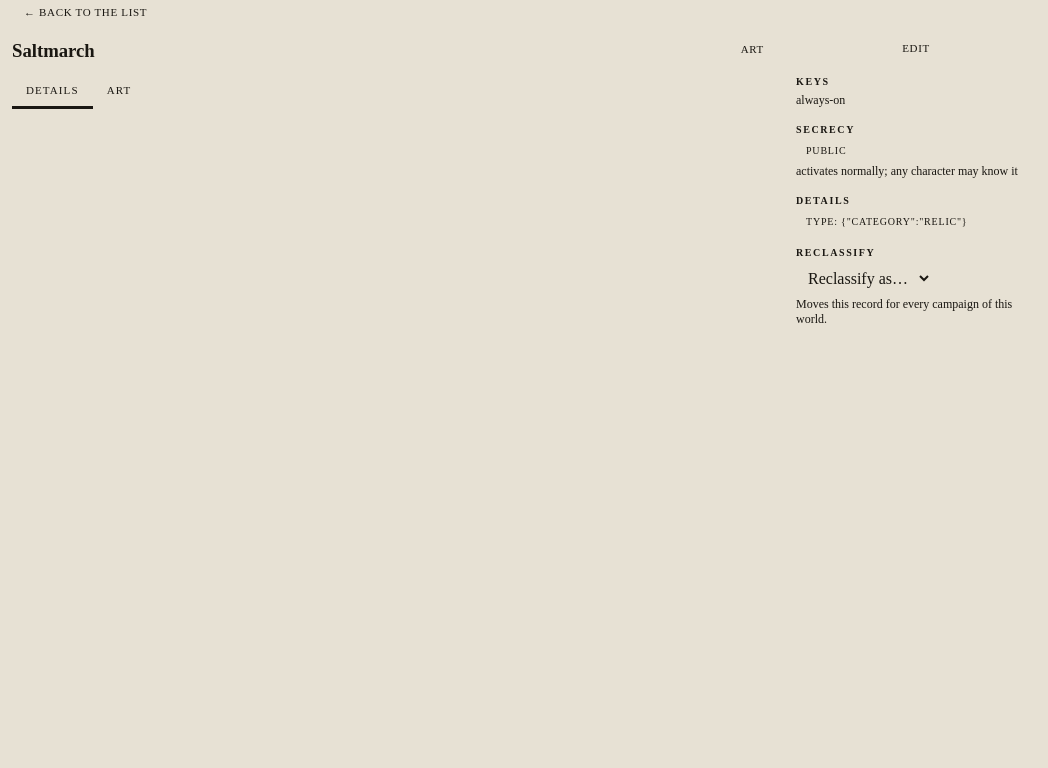
Test: structured frontmatter keeps its content when loaded into a text field
The image size is (1048, 768).
Click the button "Edit".
click(916, 48)  # box [796,36,1036,60]
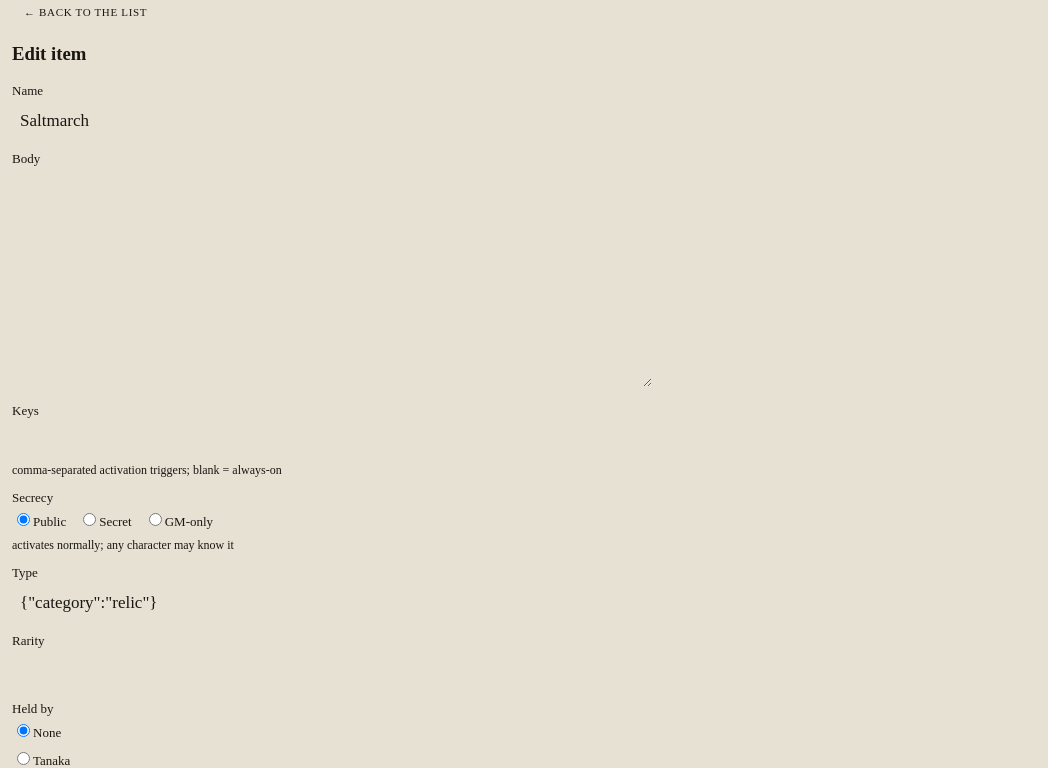
Expected: the field labelled "Type" holds "{\"category\":\"relic\"}", [12,585,652,621]
